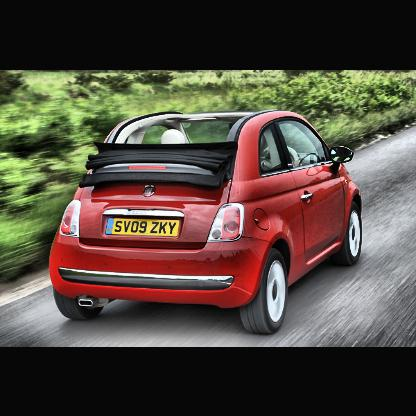FIAT 500 Convertible 2012: (49, 109, 365, 335)
